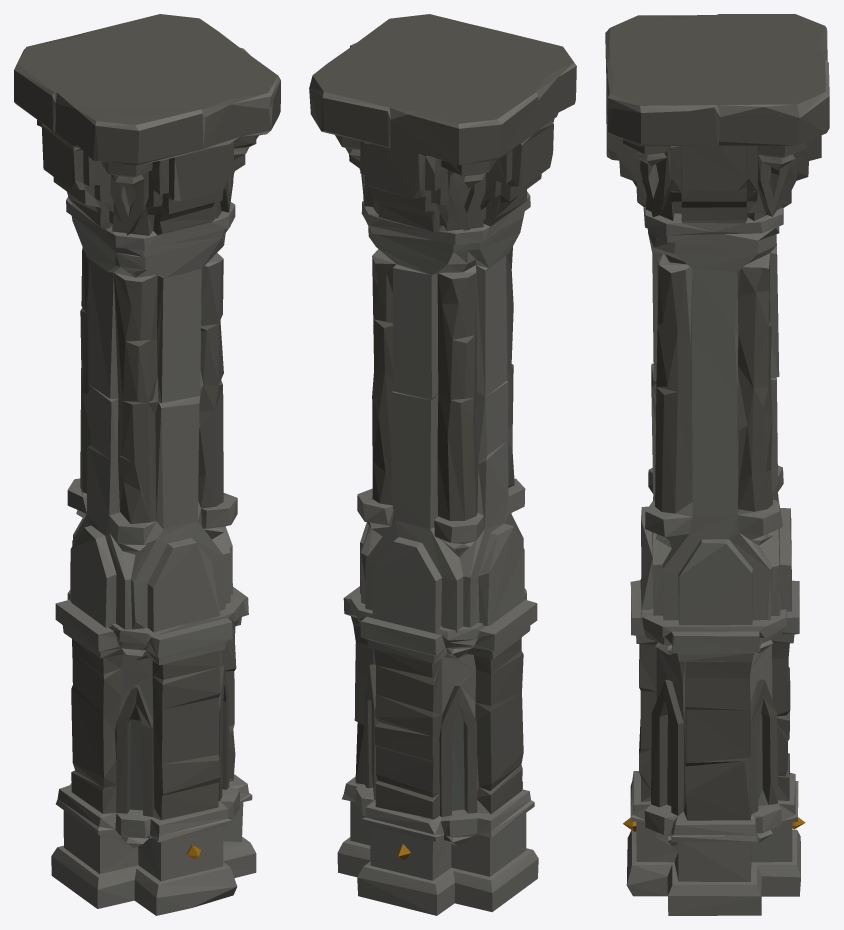
File: MDungeon_PillarSmall_Full.FBX
3 views of the same model, side by side, from view 1: azimuth 30°, elevation 25°; view 2: azimuth 150°, elevation 25°; view 3: azimuth 270°, elevation 25° (orthographic).
Visible parts, largest first — view 1: MDungeon_PillarSmall_Full_LOD0; view 2: MDungeon_PillarSmall_Full_LOD0; view 3: MDungeon_PillarSmall_Full_LOD0.
Part boxes in pixels (left/top/right/bottom): MDungeon_PillarSmall_Full_LOD0: left=14, top=14, right=280, bottom=915; MDungeon_PillarSmall_Full_LOD0: left=309, top=14, right=576, bottom=915; MDungeon_PillarSmall_Full_LOD0: left=605, top=14, right=829, bottom=915.
Size of what is drawn, in the model's own units: 2.98 by 12.02 by 3.
